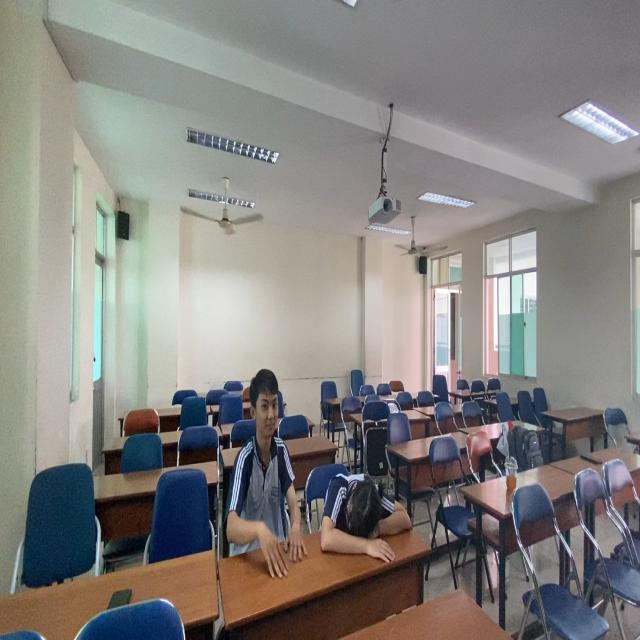sleep: (319, 458, 414, 574)
